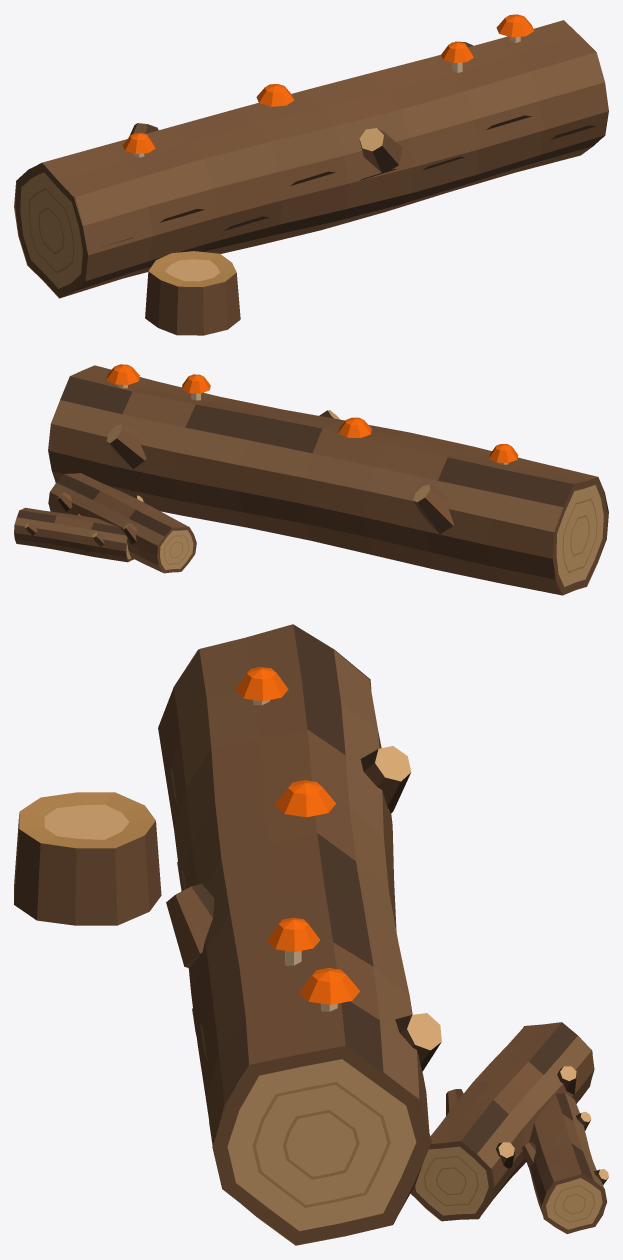
File: log_two_lane_C.glb
The picture shows the model from 3 angles, top to bottom: view 1: azimuth 30°, elevation 25°; view 2: azimuth 150°, elevation 25°; view 3: azimuth 270°, elevation 25°; orthographic projection. The views are drawn at different scales.
Visible parts, largest first — view 1: log_two_lane_C; view 2: log_two_lane_C; view 3: log_two_lane_C.
Boxes of the visible parts, left/top/right/bottom form: log_two_lane_C: left=14, top=14, right=608, bottom=335; log_two_lane_C: left=14, top=364, right=608, bottom=595; log_two_lane_C: left=14, top=624, right=608, bottom=1245.
Size of the model in its own units: 4.85 by 1.25 by 2.87.
